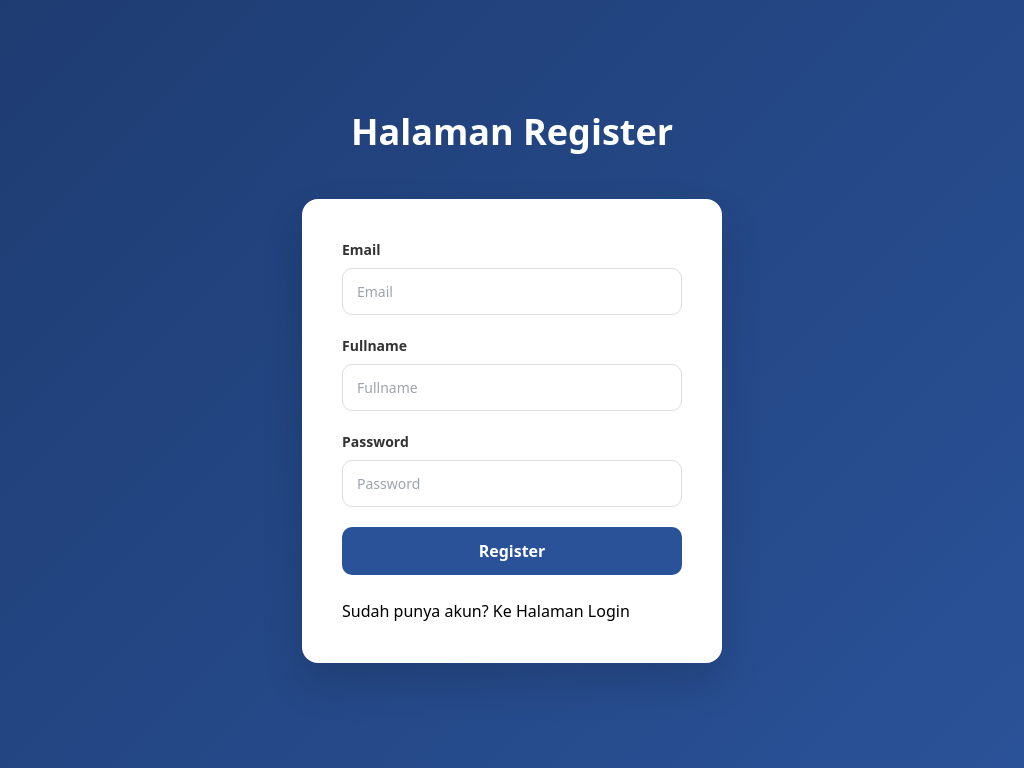
it: Register Page › should show password error
In the field with placeholder "Email": (512, 292) [342, 268, 682, 315], type "test@mail.com"
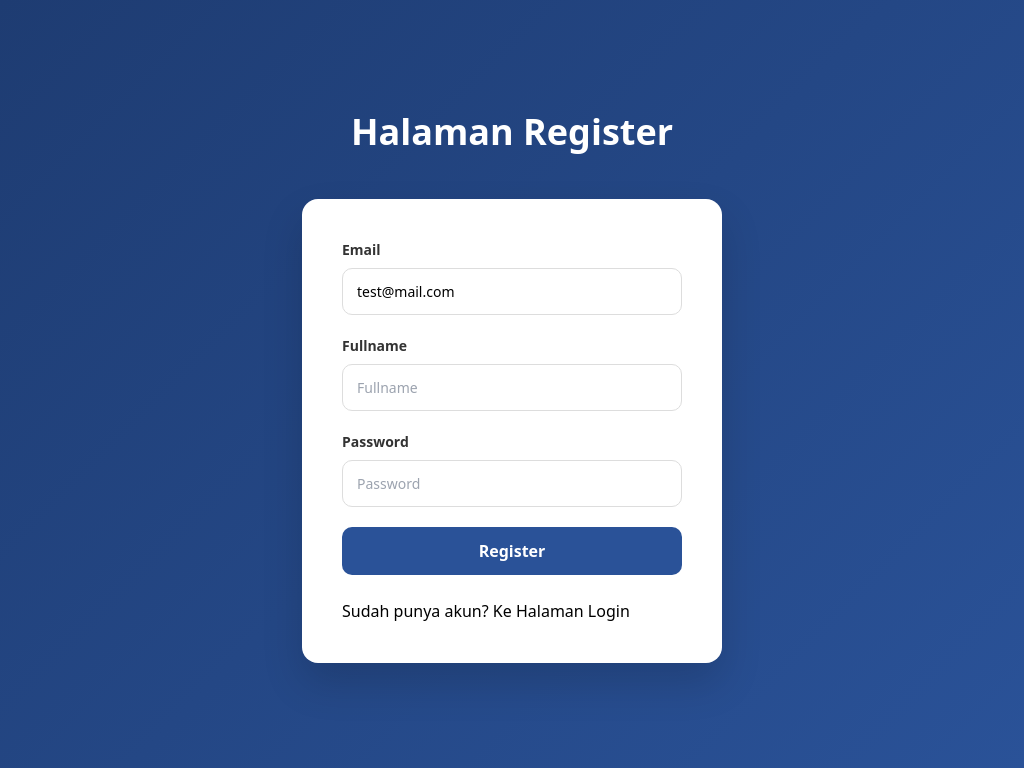
In the field with placeholder "Fullname": (512, 388) [342, 364, 682, 411], type "Test User"
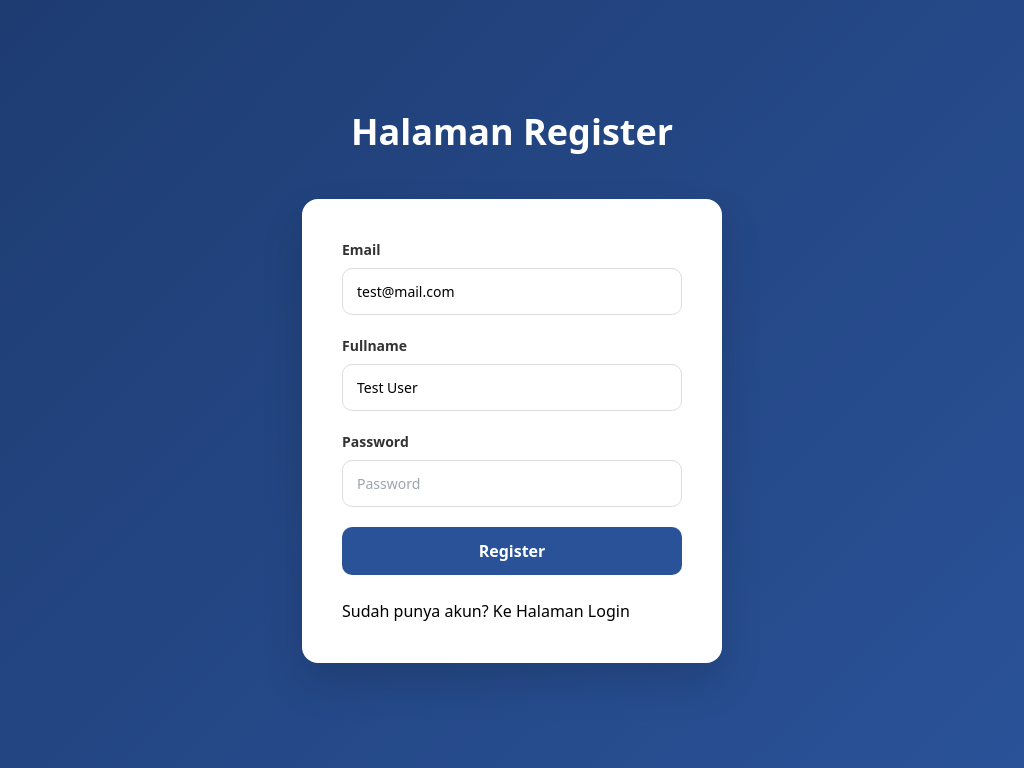
In the password field with placeholder "Password": (512, 484) [342, 460, 682, 507], type "123"
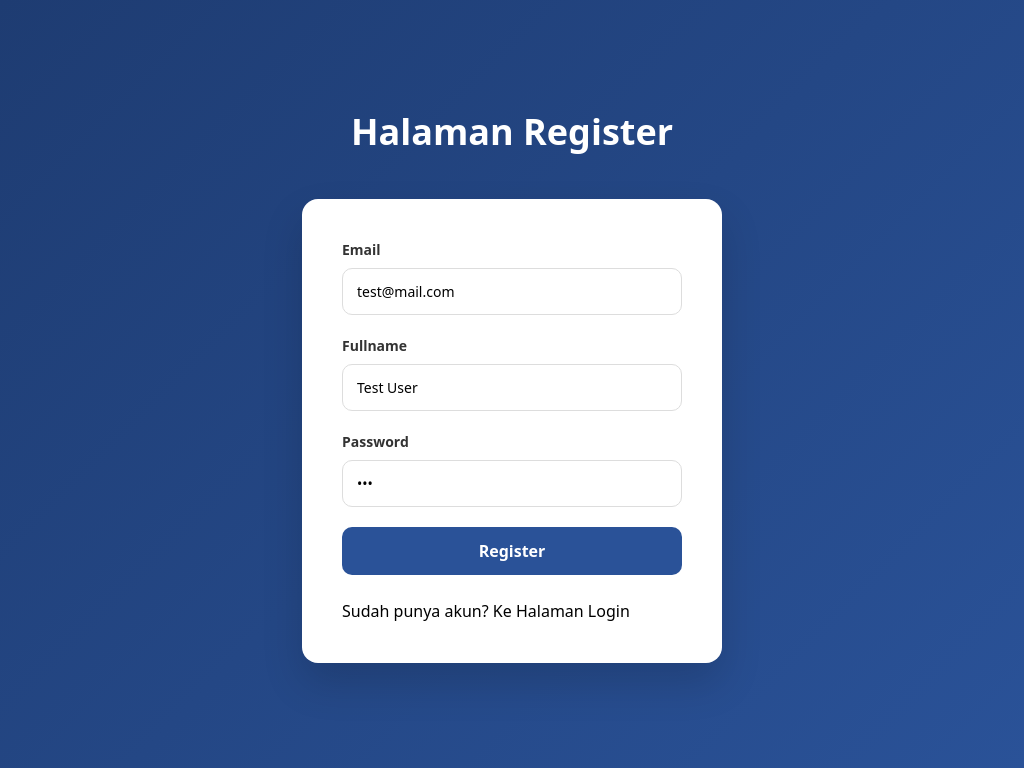
Submit the form from the button, box [342, 527, 682, 575]
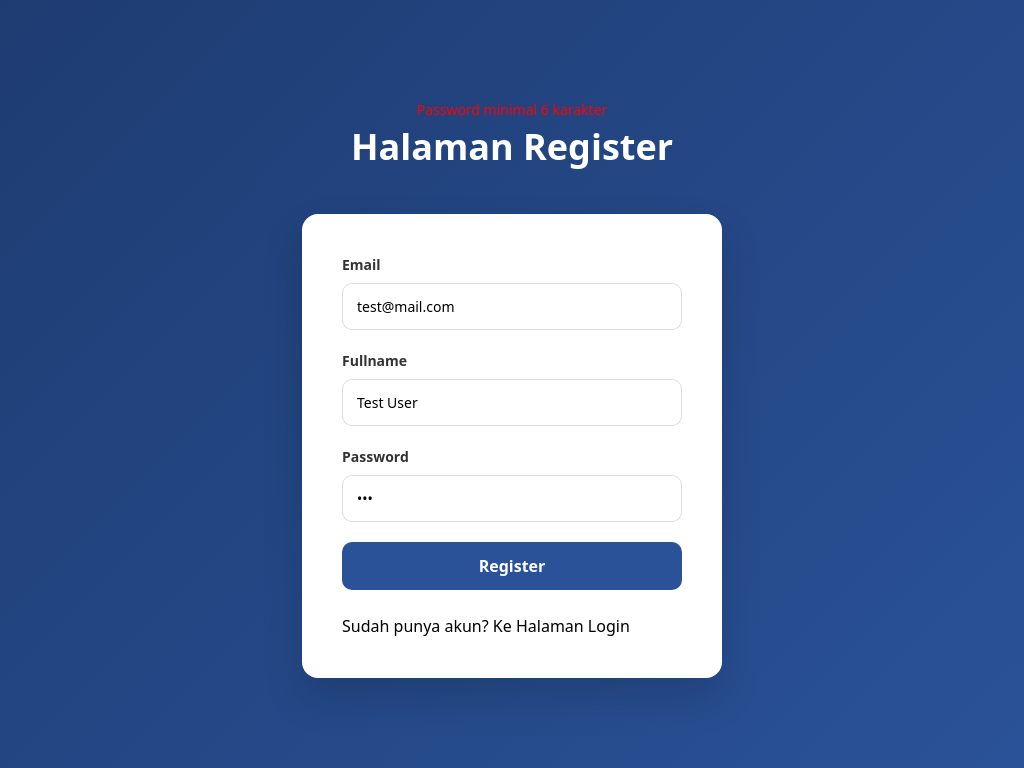
expect the text "Password minimal 6 karakter" is shown: met, box [417, 98, 607, 120]
